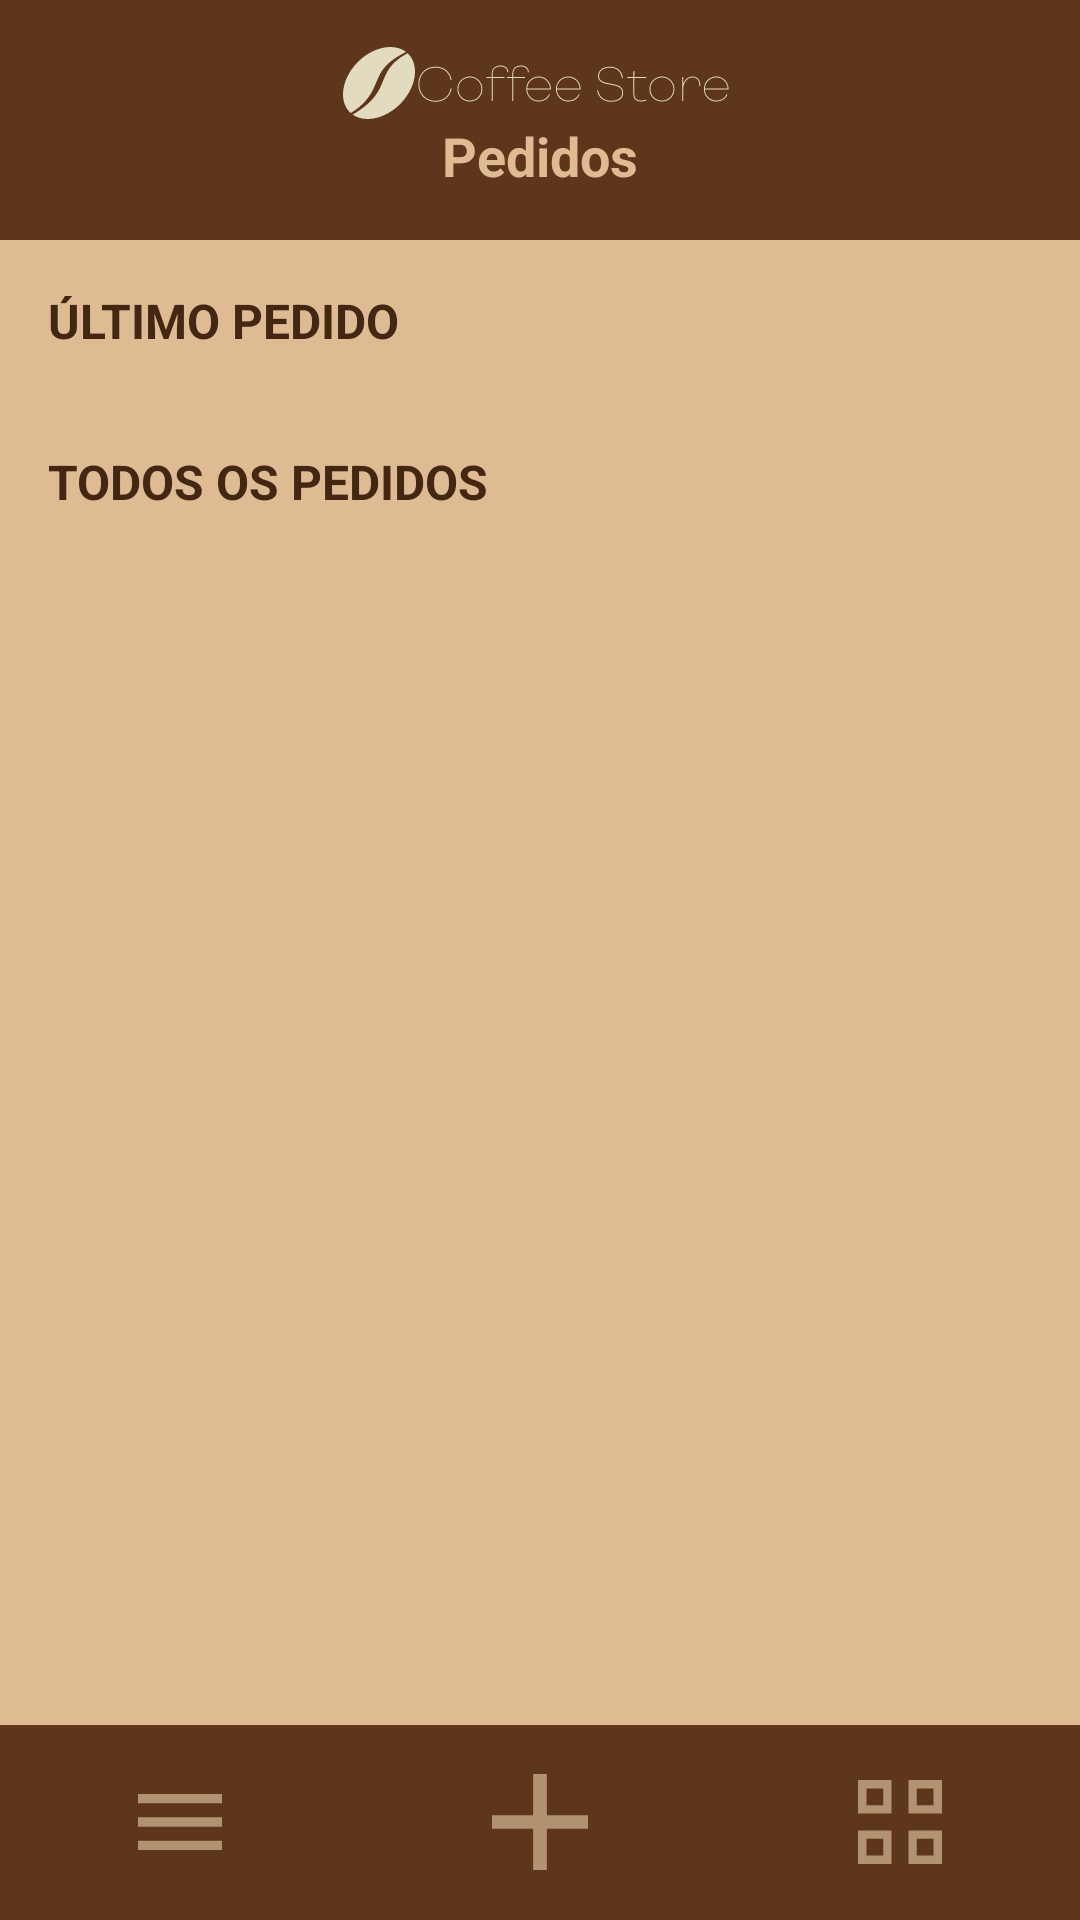

Icon click points for this 1080*1920 phone screenshot, format (x=x, y=y):
novo: (x=540, y=1822)
pedidos: (x=180, y=1822)
produtos: (x=900, y=1822)
